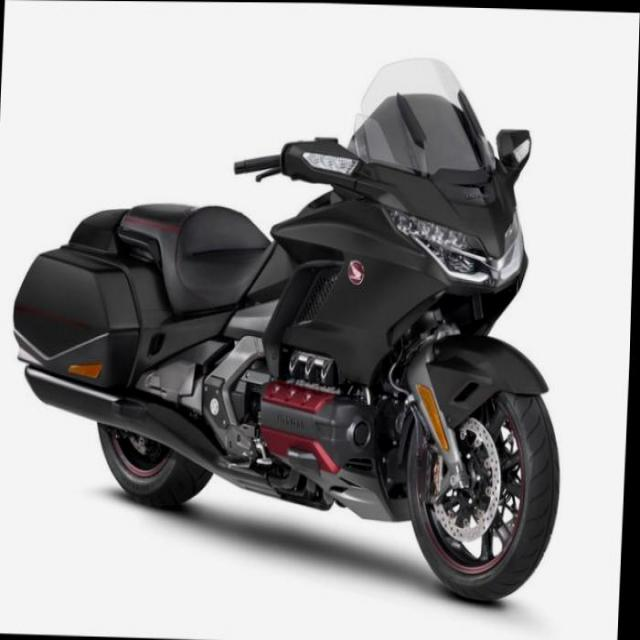Gold Wing: (1, 41, 580, 599)
